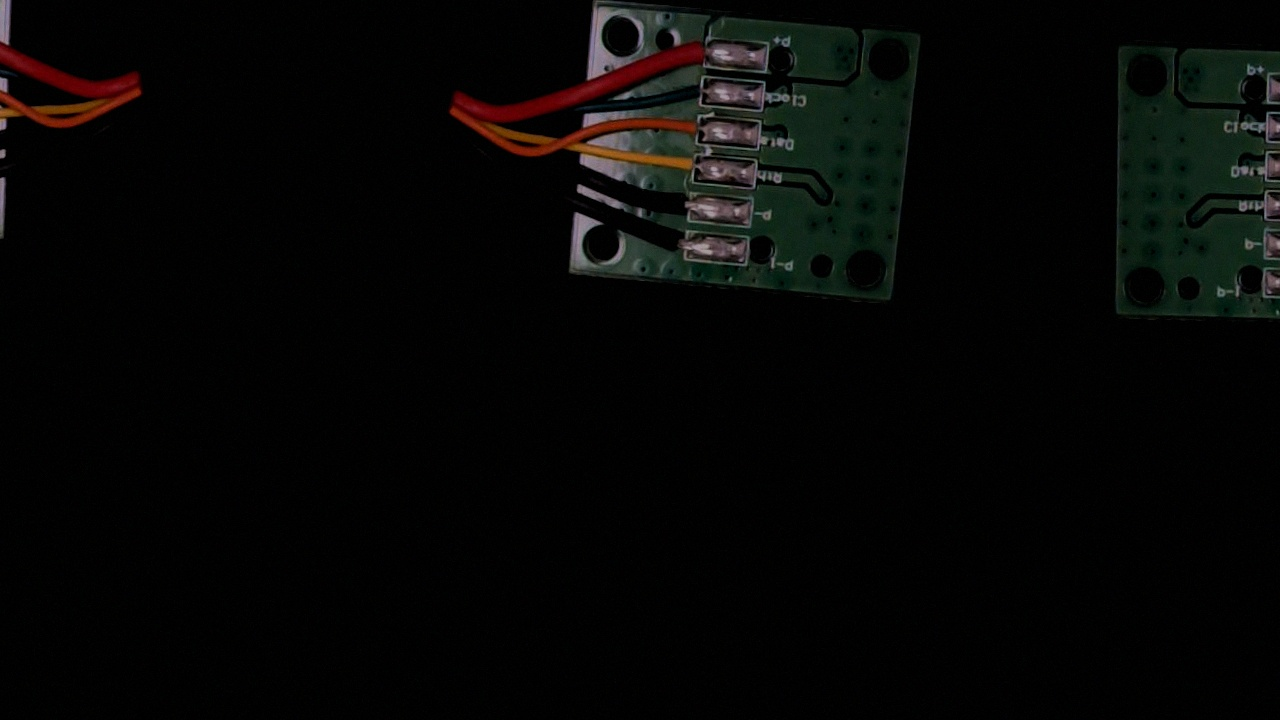Black: (644, 186, 704, 224)
Black1: (651, 229, 704, 263)
Green: (664, 73, 714, 108)
Orange: (646, 113, 714, 145)
Red: (658, 36, 719, 69)
Yellow: (640, 146, 713, 180)
